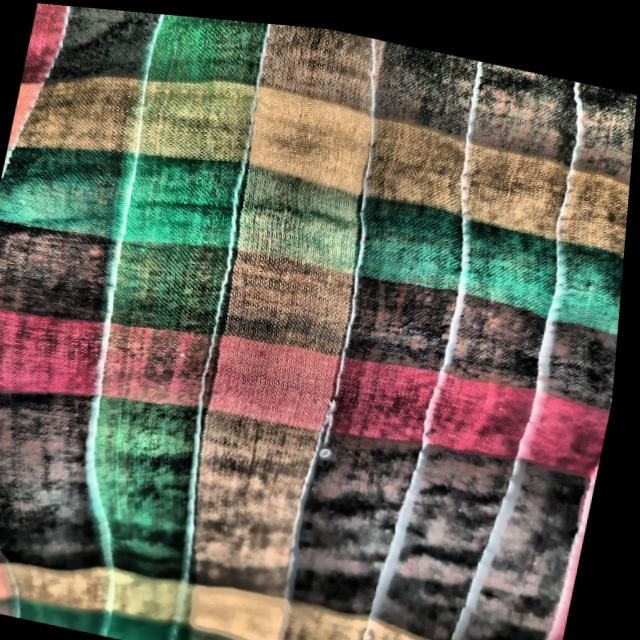Stitch: (273, 291, 398, 488)
